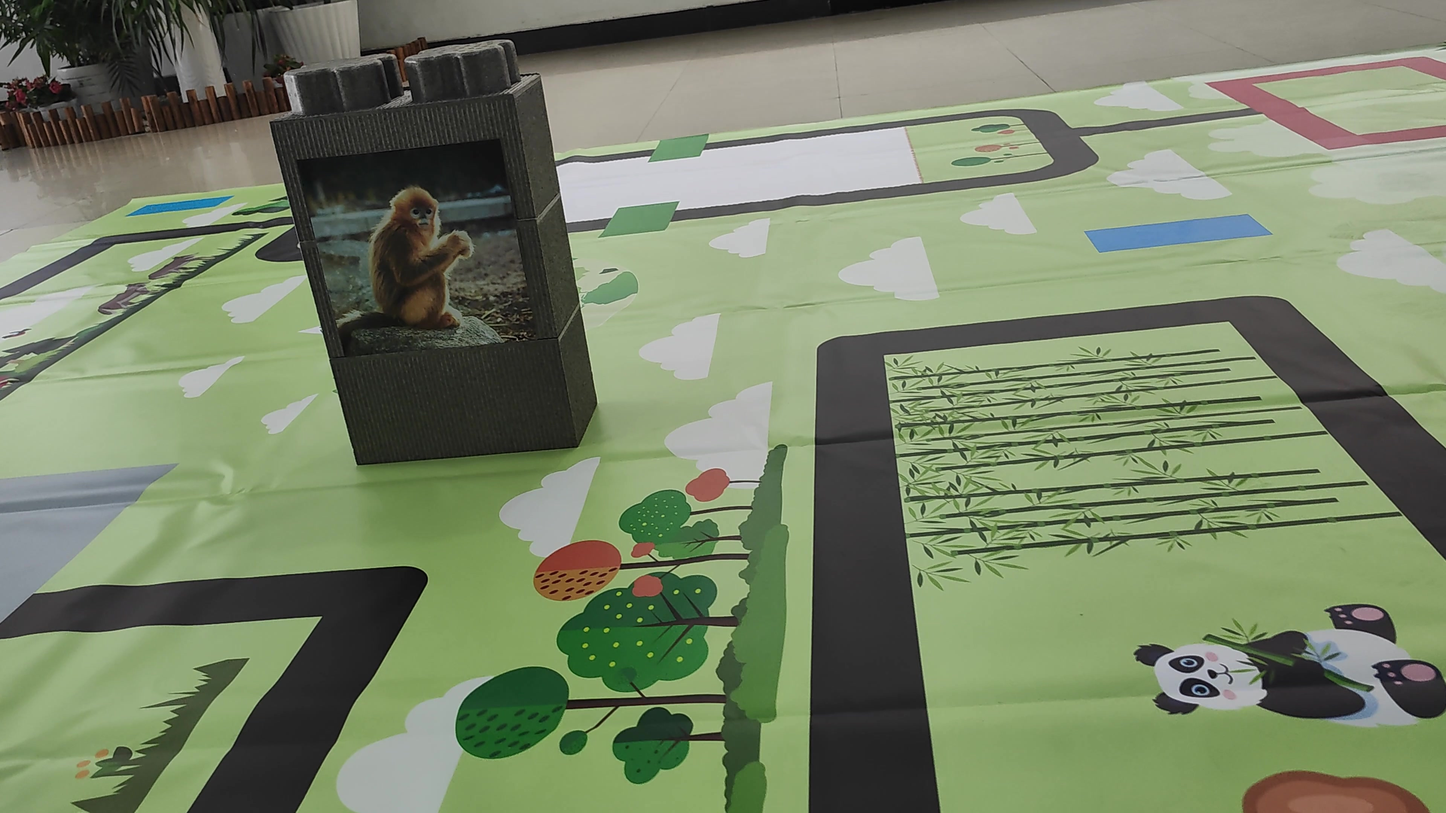monkey: (328, 158, 525, 362)
